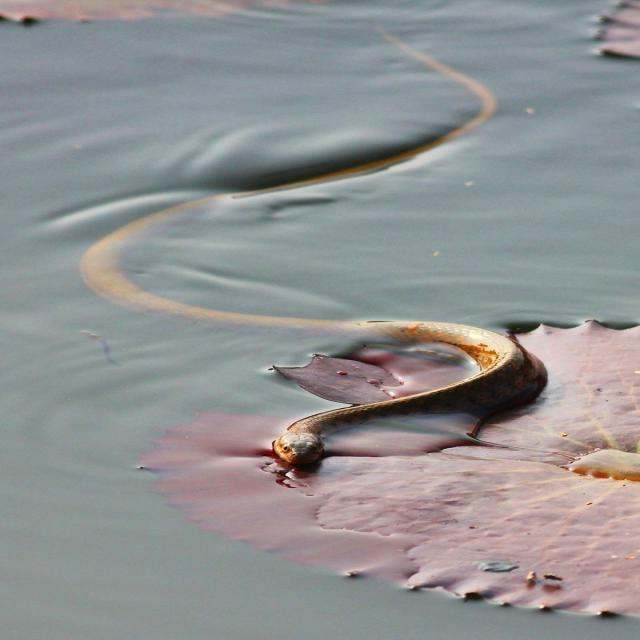Snake: (64, 22, 564, 480)
